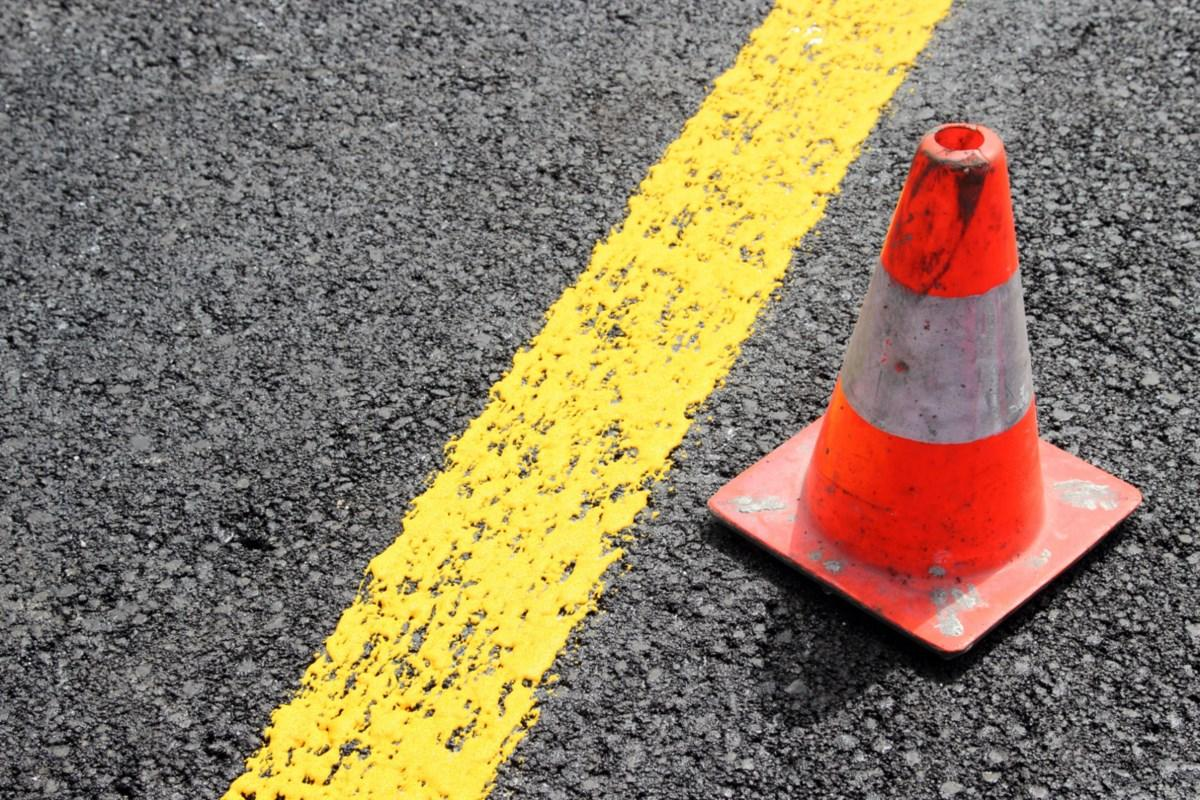traffic cone: (708, 120, 1144, 659)
